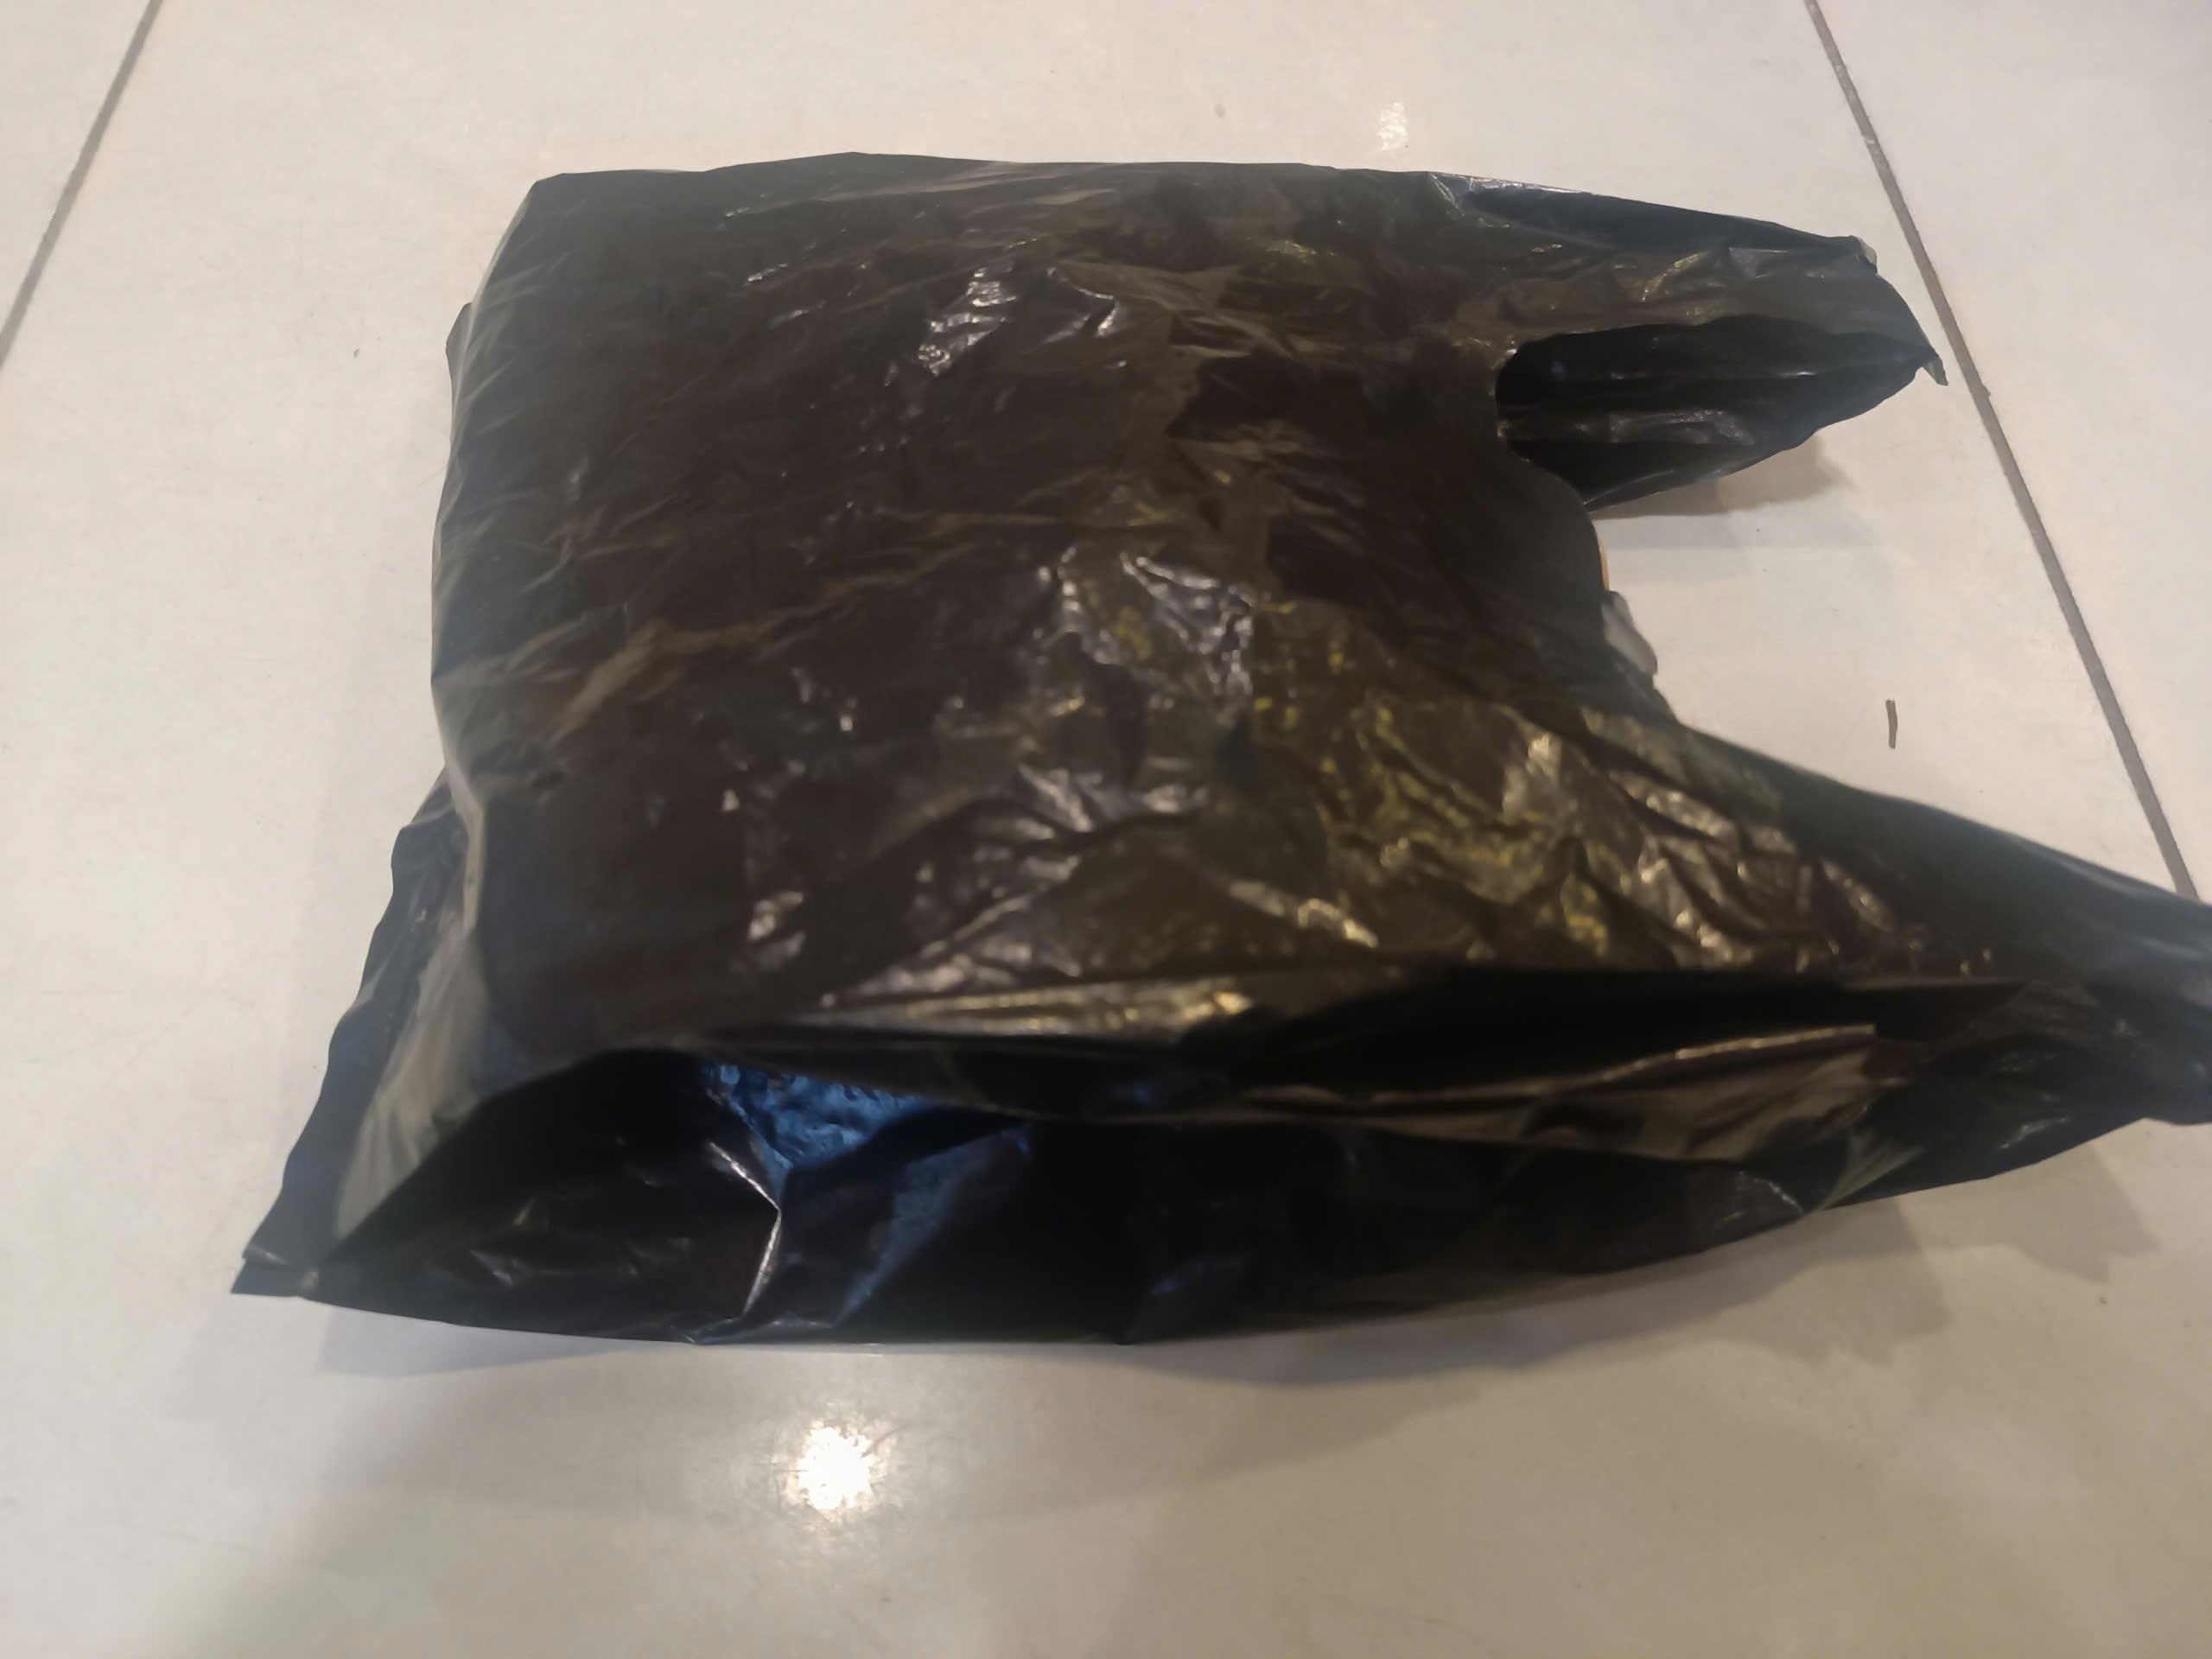Vo co: (230, 153, 2212, 1351)
